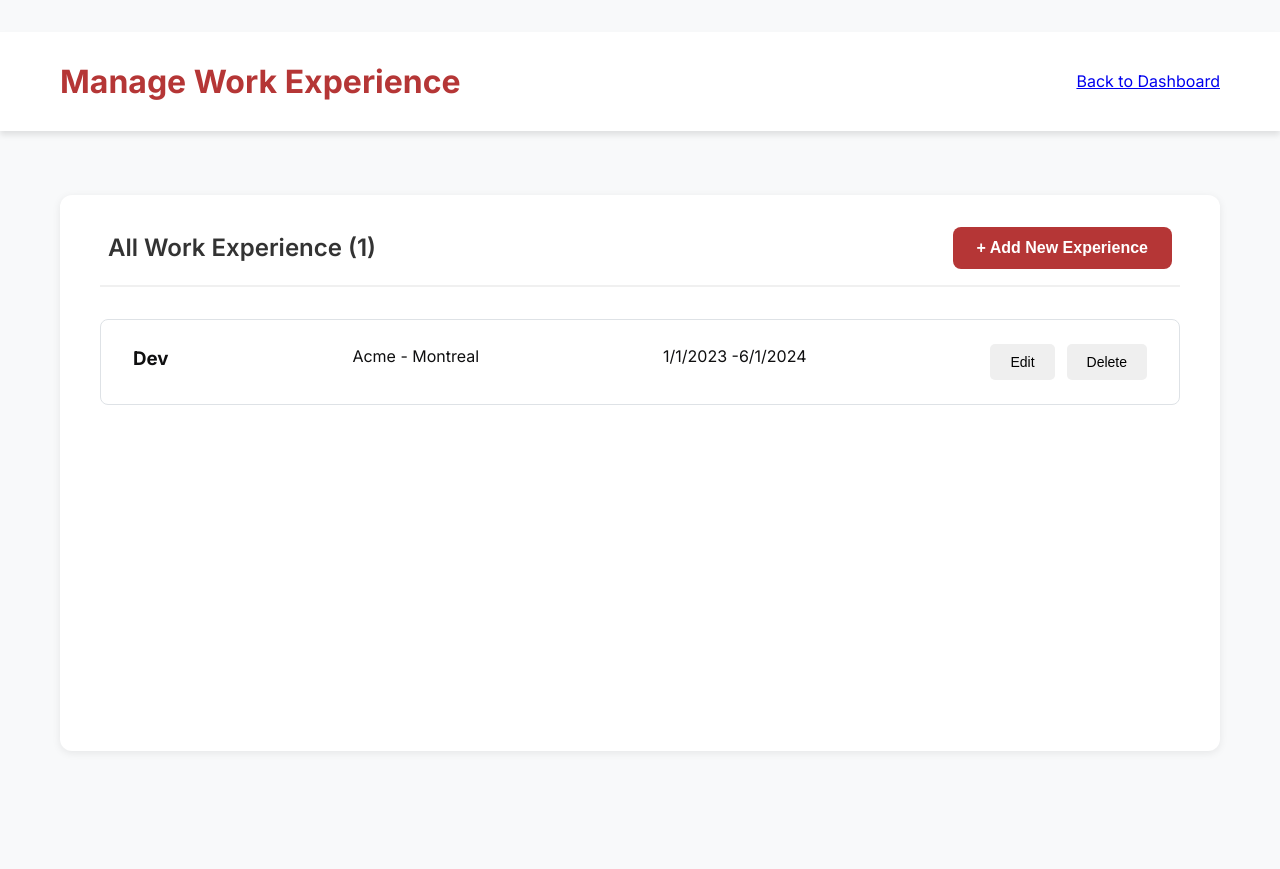
Test: AdminWorkExperience › populates form when editing existing experience
Expected: the heading "Dev" is shown, [133, 344, 168, 374]
Step 1. Click the button "Edit" → (1022,362), box [990, 344, 1054, 380]
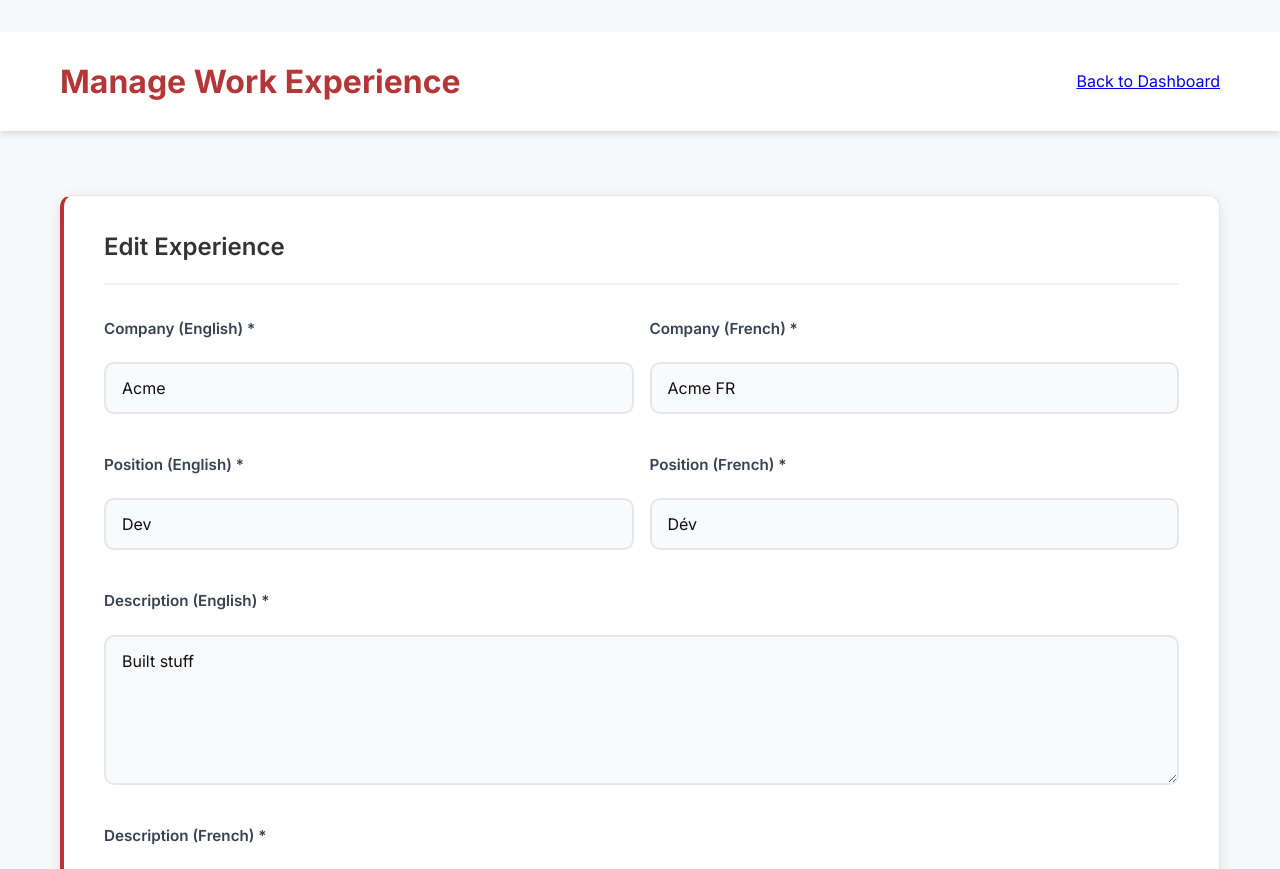
Expected: the field labelled "Company (English) *" holds "Acme", [104, 362, 634, 414]
Expected: the field labelled "Position (English) *" holds "Dev", [104, 498, 634, 550]
